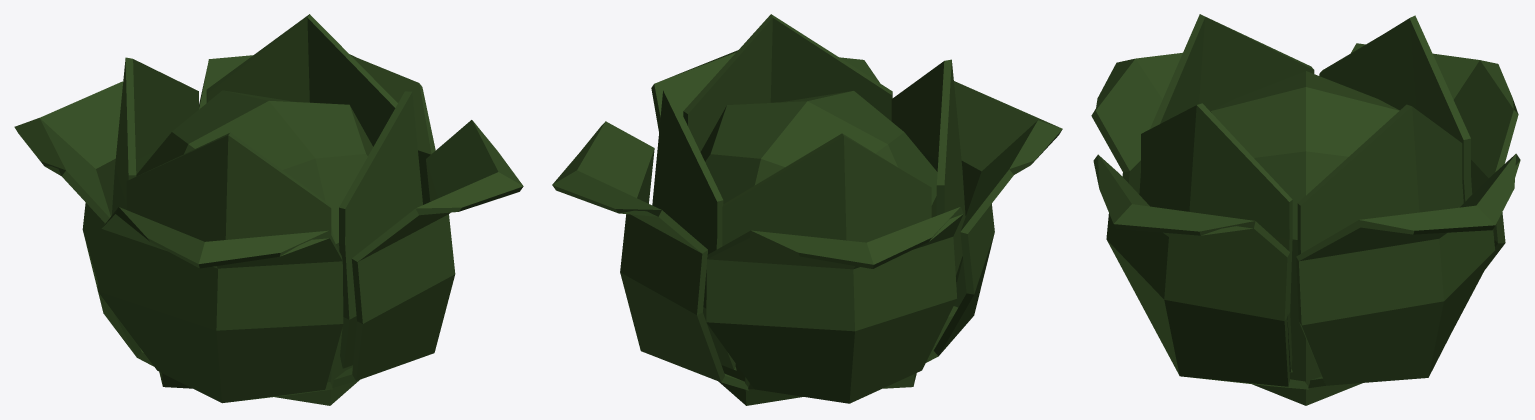
The model's file is Lettuce_Whole.obj.
3 renders of one model, left to right at view 1: azimuth 30°, elevation 25°; view 2: azimuth 150°, elevation 25°; view 3: azimuth 270°, elevation 25°, orthographic. The views are drawn at different scales.
Visible parts, largest first — view 1: Lettuce_Whole_Cube.025; view 2: Lettuce_Whole_Cube.025; view 3: Lettuce_Whole_Cube.025.
Part boxes in pixels (x1,y1,x2,y2): Lettuce_Whole_Cube.025: (14, 14, 523, 405); Lettuce_Whole_Cube.025: (552, 14, 1062, 405); Lettuce_Whole_Cube.025: (1091, 14, 1520, 405).
Size of the model in its own units: 1.66 by 1.37 by 1.66.
